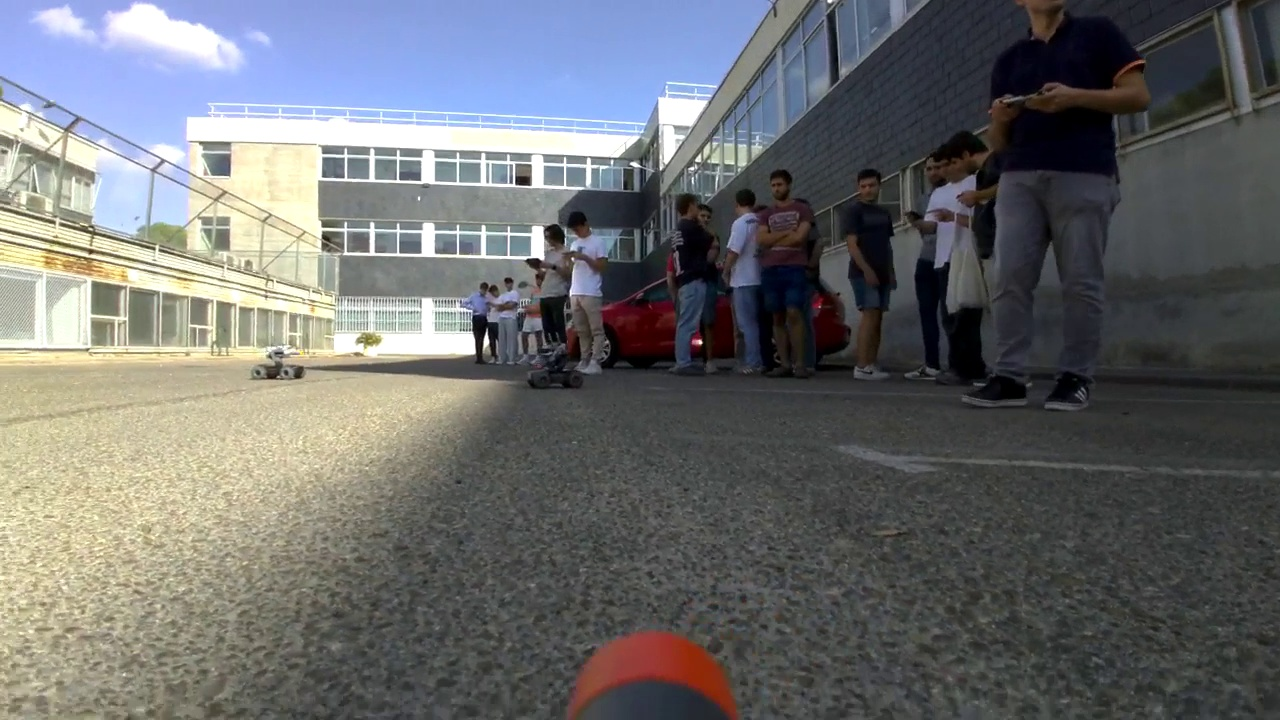robot: (528, 332, 584, 393), (252, 343, 308, 381)
